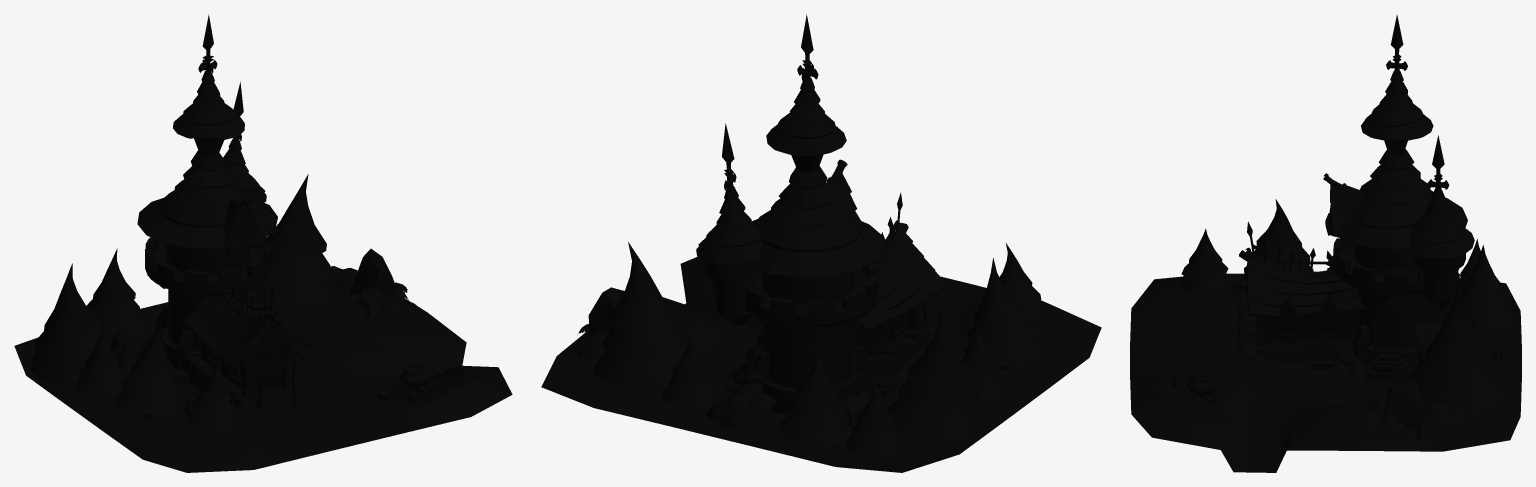
The model's file is House_Lowpoly.fbx.
3 renders of one model, left to right at view 1: azimuth 30°, elevation 25°; view 2: azimuth 150°, elevation 25°; view 3: azimuth 270°, elevation 25°, orthographic. The views are drawn at different scales.
Visible parts, largest first — view 1: house1_obj_cleaner_gles; view 2: house1_obj_cleaner_gles; view 3: house1_obj_cleaner_gles.
Part boxes in pixels (bbox=[...]): house1_obj_cleaner_gles: bbox=[14, 14, 512, 472]; house1_obj_cleaner_gles: bbox=[541, 14, 1101, 472]; house1_obj_cleaner_gles: bbox=[1130, 14, 1521, 472].
Bounding box in the file's own units: 313 × 300 × 291.
Materials: 3 (1 with a texture image).
